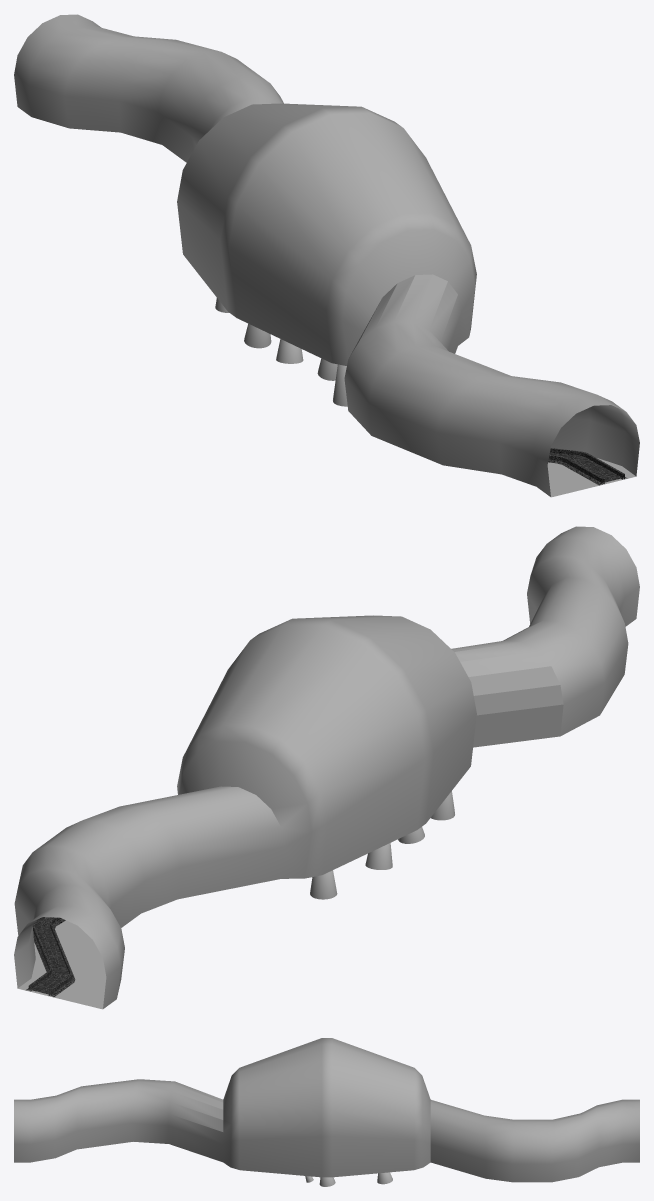
Rendered from Fuel Tile.fbx.
The picture shows the model from 3 angles, top to bottom: view 1: azimuth 30°, elevation 25°; view 2: azimuth 150°, elevation 25°; view 3: azimuth 270°, elevation 25°; orthographic projection. The views are drawn at different scales.
Visible parts, largest first — view 1: Fuel_Tile, Fuel_Tile_Track; view 2: Fuel_Tile, Fuel_Tile_Track; view 3: Fuel_Tile.
Part boxes in pixels (x1,y1,x2,y2): Fuel_Tile: (14, 14, 639, 497); Fuel_Tile_Track: (548, 448, 627, 485); Fuel_Tile: (14, 526, 639, 1009); Fuel_Tile_Track: (26, 917, 75, 997); Fuel_Tile: (14, 1038, 639, 1182).
Bounding box in the file's own units: 5.06 × 4.73 × 20.
